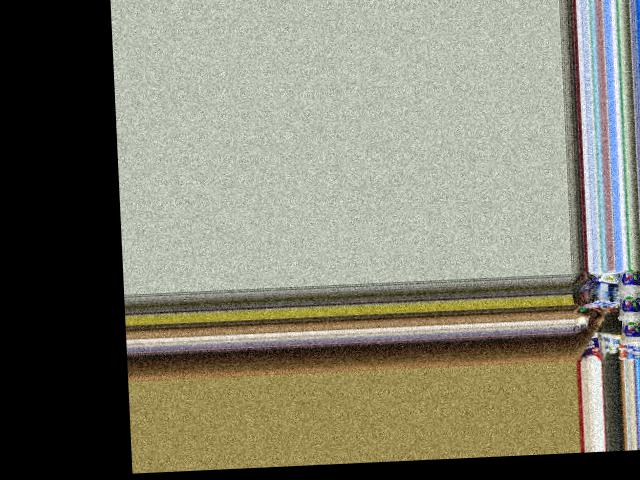cotage: (618, 290, 640, 320)
